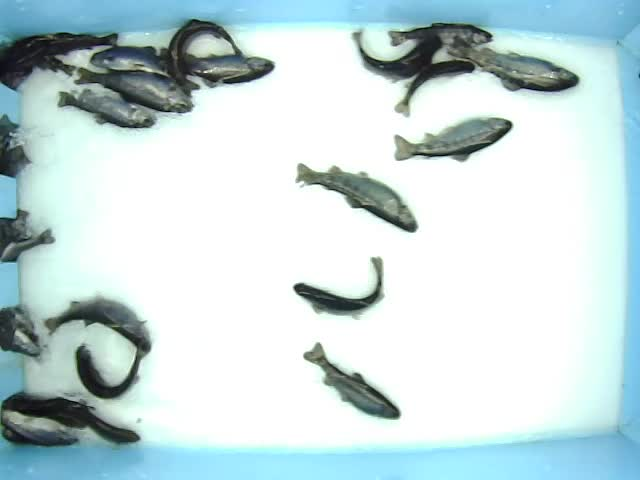fish: (294, 161, 420, 234), (302, 341, 403, 421), (445, 34, 580, 93), (43, 291, 154, 356), (72, 65, 196, 115), (293, 255, 387, 320), (391, 115, 514, 163), (166, 19, 246, 87), (351, 27, 443, 86), (392, 58, 476, 119), (158, 47, 276, 89), (87, 45, 190, 86), (74, 343, 148, 400), (56, 89, 158, 130), (67, 402, 142, 446), (387, 22, 494, 47)
